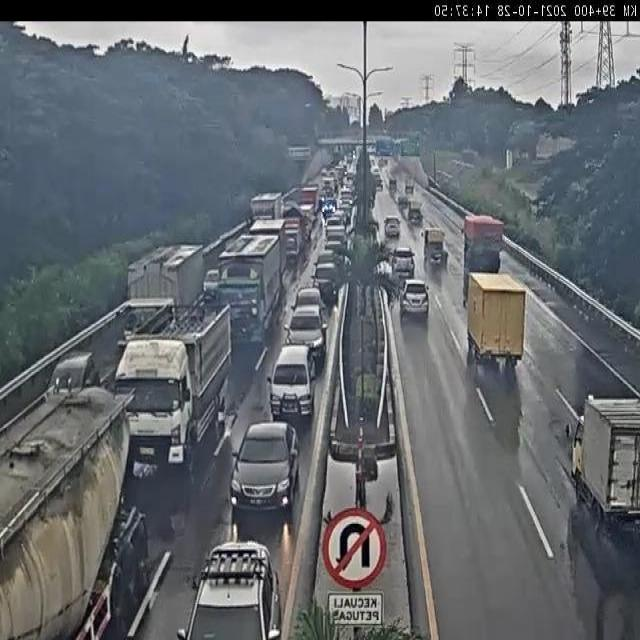Car: (175, 536, 282, 640), (227, 418, 301, 518), (45, 348, 101, 402), (283, 304, 328, 371), (289, 284, 328, 321), (310, 261, 341, 302), (400, 278, 430, 319), (390, 246, 416, 279), (314, 250, 342, 274), (202, 268, 223, 297), (322, 239, 345, 258), (320, 196, 338, 215), (385, 217, 401, 238), (375, 178, 383, 190)
Truck: (0, 383, 150, 640), (115, 299, 234, 480), (563, 394, 640, 528), (118, 240, 205, 340), (215, 233, 282, 347), (466, 268, 527, 368), (460, 213, 506, 272), (248, 216, 288, 278), (421, 228, 449, 267), (249, 193, 284, 224), (285, 207, 305, 250), (324, 224, 348, 250), (284, 229, 303, 258), (406, 200, 424, 224), (405, 178, 414, 194)
Van: (269, 344, 318, 423)
